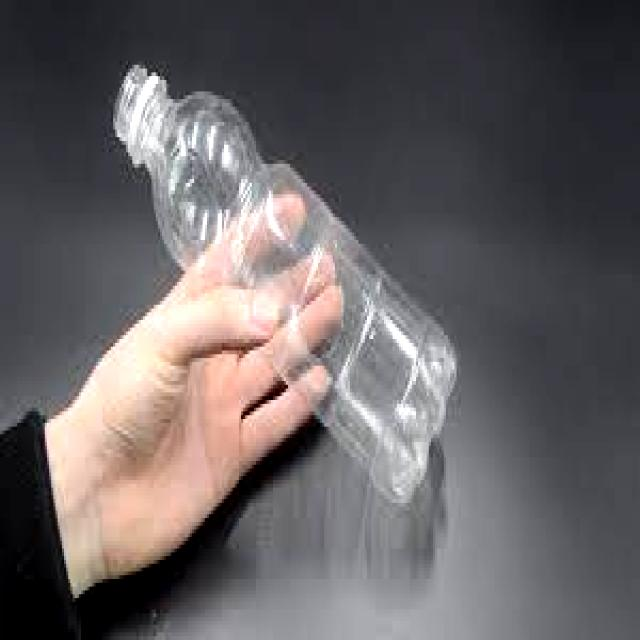Plastic: (102, 46, 467, 525)
